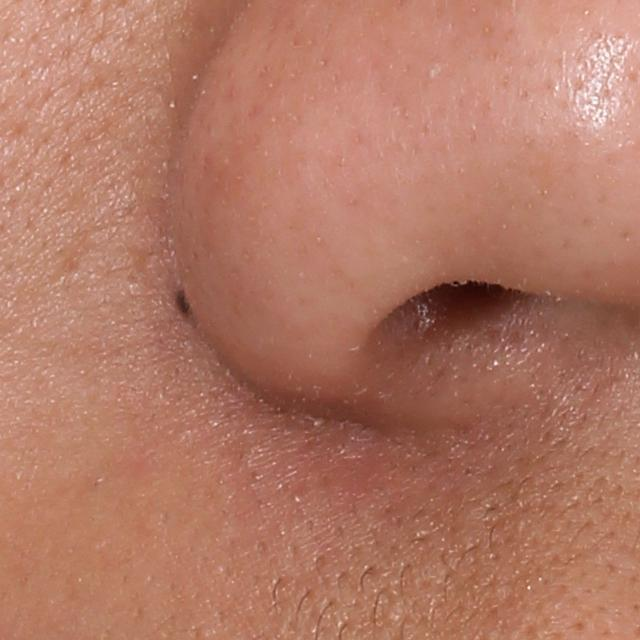nevus: (170, 287, 194, 315)
